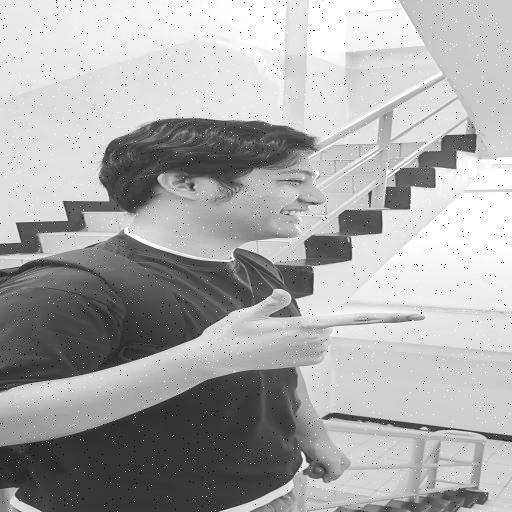next: (172, 281, 454, 388)
